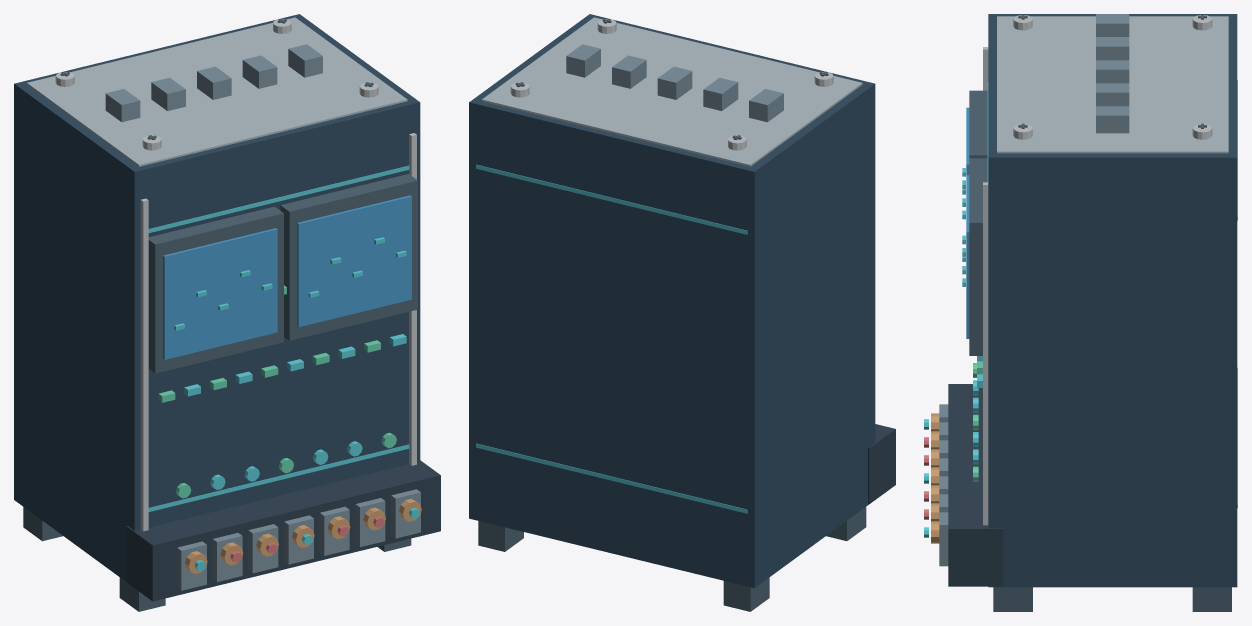
Rendered from 30_L76_ElectrochemicalPotentialController.glb.
3 renders of one model, left to right at view 1: azimuth 30°, elevation 25°; view 2: azimuth 150°, elevation 25°; view 3: azimuth 270°, elevation 25°, orthographic. The views are drawn at different scales.
Parts seen in each view (by area): view 1: ElectrochemicalPotentialController_Node_0000, ElectrochemicalPotentialController_Node_0007, ElectrochemicalPotentialController_Node_0049, ElectrochemicalPotentialController_Node_0025, ElectrochemicalPotentialController_Node_0032, ElectrochemicalPotentialController_Node_0024, ElectrochemicalPotentialController_Node_0031, ElectrochemicalPotentialController_Node_0005, ElectrochemicalPotentialController_Node_0006, ElectrochemicalPotentialController_Node_0021, ElectrochemicalPotentialController_Node_0023, ElectrochemicalPotentialController_Node_0053 (+13 smaller); view 2: ElectrochemicalPotentialController_Node_0000, ElectrochemicalPotentialController_Node_0007, ElectrochemicalPotentialController_Node_0049, ElectrochemicalPotentialController_Node_0022, ElectrochemicalPotentialController_Node_0020, ElectrochemicalPotentialController_Node_0045, ElectrochemicalPotentialController_Node_0047, ElectrochemicalPotentialController_Node_0082, ElectrochemicalPotentialController_Node_0083, ElectrochemicalPotentialController_Node_0085, ElectrochemicalPotentialController_Node_0081, ElectrochemicalPotentialController_Node_0084 (+1 smaller); view 3: ElectrochemicalPotentialController_Node_0000, ElectrochemicalPotentialController_Node_0007, ElectrochemicalPotentialController_Node_0049, ElectrochemicalPotentialController_Node_0031, ElectrochemicalPotentialController_Node_0006, ElectrochemicalPotentialController_Node_0024, ElectrochemicalPotentialController_Node_0047, ElectrochemicalPotentialController_Node_0048, ElectrochemicalPotentialController_Node_0085, ElectrochemicalPotentialController_Node_0082, ElectrochemicalPotentialController_Node_0083, ElectrochemicalPotentialController_Node_0084 (+3 smaller).
Part boxes in pixels (x1,y1,x2,y2): ElectrochemicalPotentialController_Node_0000: [14, 14, 420, 581]; ElectrochemicalPotentialController_Node_0007: [27, 17, 407, 166]; ElectrochemicalPotentialController_Node_0049: [126, 460, 440, 601]; ElectrochemicalPotentialController_Node_0025: [163, 228, 277, 359]; ElectrochemicalPotentialController_Node_0032: [297, 195, 411, 326]; ElectrochemicalPotentialController_Node_0024: [148, 206, 283, 373]; ElectrochemicalPotentialController_Node_0031: [280, 174, 417, 340]; ElectrochemicalPotentialController_Node_0005: [140, 198, 148, 531]; ElectrochemicalPotentialController_Node_0006: [409, 133, 416, 465]; ElectrochemicalPotentialController_Node_0021: [148, 444, 409, 511]; ElectrochemicalPotentialController_Node_0023: [148, 165, 409, 232]; ElectrochemicalPotentialController_Node_0053: [212, 533, 242, 581]; ElectrochemicalPotentialController_Node_0000: [469, 14, 875, 587]; ElectrochemicalPotentialController_Node_0007: [482, 17, 862, 166]; ElectrochemicalPotentialController_Node_0049: [868, 424, 895, 504]; ElectrochemicalPotentialController_Node_0022: [476, 164, 747, 234]; ElectrochemicalPotentialController_Node_0020: [476, 443, 747, 513]; ElectrochemicalPotentialController_Node_0045: [723, 577, 769, 611]; ElectrochemicalPotentialController_Node_0047: [478, 521, 523, 551]; ElectrochemicalPotentialController_Node_0082: [703, 77, 738, 110]; ElectrochemicalPotentialController_Node_0083: [657, 66, 692, 99]; ElectrochemicalPotentialController_Node_0085: [566, 44, 600, 77]; ElectrochemicalPotentialController_Node_0081: [749, 89, 783, 122]; ElectrochemicalPotentialController_Node_0084: [612, 55, 646, 88]; ElectrochemicalPotentialController_Node_0000: [988, 14, 1237, 587]; ElectrochemicalPotentialController_Node_0007: [997, 16, 1228, 153]; ElectrochemicalPotentialController_Node_0049: [948, 384, 1002, 586]; ElectrochemicalPotentialController_Node_0031: [969, 158, 987, 355]; ElectrochemicalPotentialController_Node_0006: [983, 182, 988, 525]; ElectrochemicalPotentialController_Node_0024: [969, 90, 987, 158]; ElectrochemicalPotentialController_Node_0047: [1192, 587, 1231, 611]; ElectrochemicalPotentialController_Node_0048: [993, 587, 1032, 611]; ElectrochemicalPotentialController_Node_0085: [1096, 106, 1129, 133]; ElectrochemicalPotentialController_Node_0082: [1096, 37, 1129, 60]; ElectrochemicalPotentialController_Node_0083: [1096, 60, 1129, 83]; ElectrochemicalPotentialController_Node_0084: [1096, 83, 1129, 106].
Bounding box in the file's own units: 1.13 × 1.73 × 1.03.
